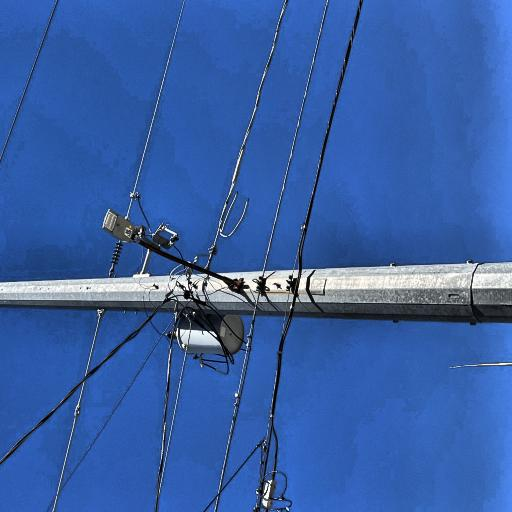pole: (48, 0, 138, 512)
street light: (97, 225, 172, 389)
transformer: (38, 308, 78, 386)
